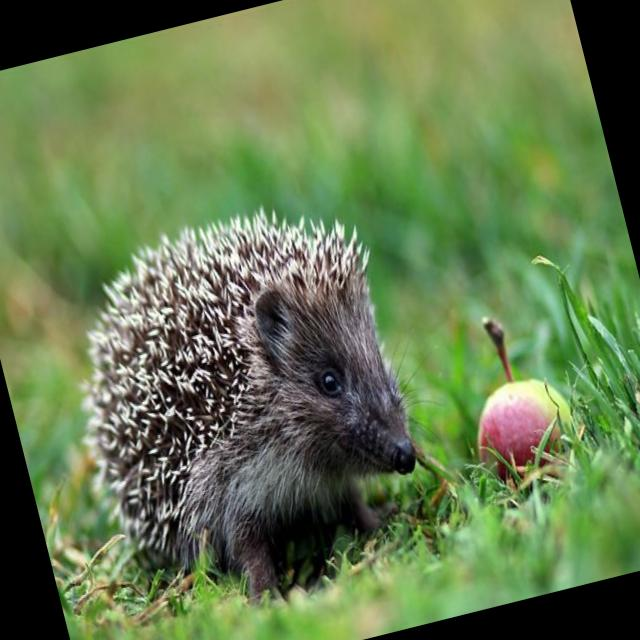Hedgehog: (40, 185, 444, 628)
